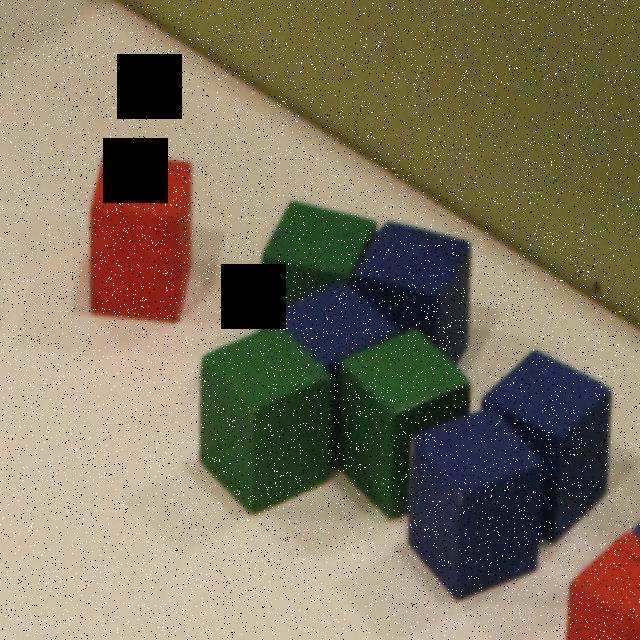bluecube: (411, 405, 546, 605), (489, 350, 613, 536), (348, 221, 472, 368), (276, 283, 395, 374)
green cube: (197, 320, 340, 513), (335, 328, 471, 522), (261, 196, 381, 325)
red cube: (93, 148, 194, 324), (566, 530, 640, 640)
